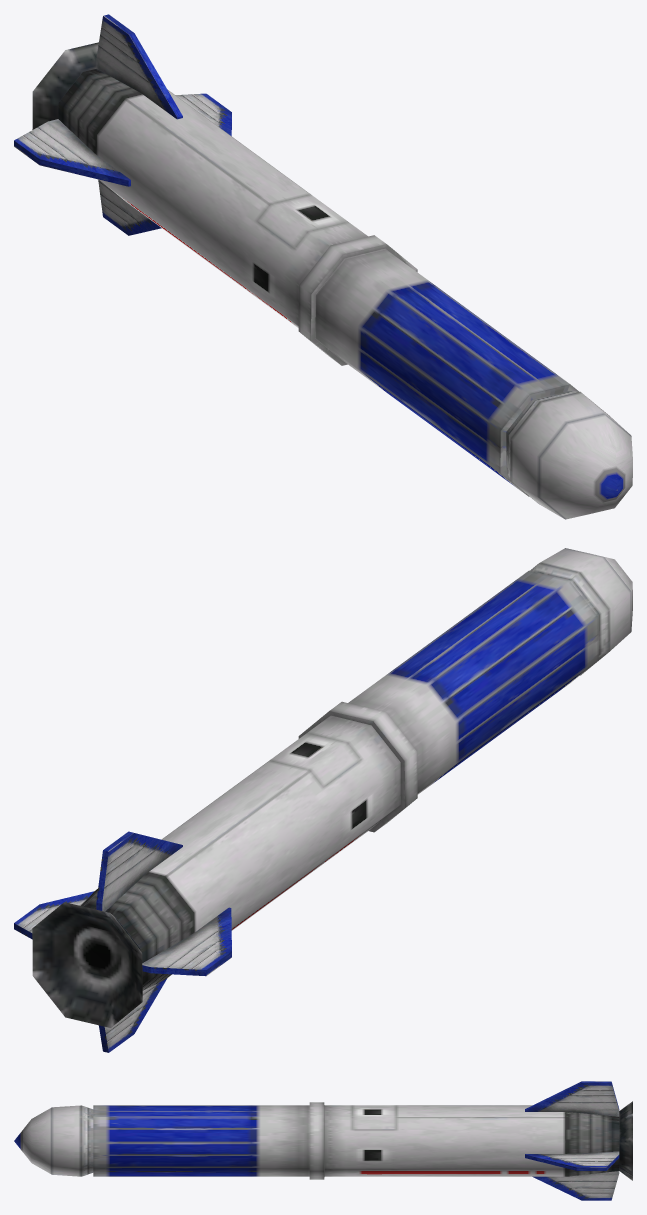
Rendered from wpn_missile_space_s03_l0.fbx.
3 views of the same model, one above another, from view 1: azimuth 30°, elevation 25°; view 2: azimuth 150°, elevation 25°; view 3: azimuth 270°, elevation 25° (orthographic). The views are drawn at different scales.
Visible parts, largest first — view 1: mesh_node; view 2: mesh_node; view 3: mesh_node.
Part boxes in pixels (<box>): mesh_node: <box>14,14,632,519</box>; mesh_node: <box>14,548,632,1052</box>; mesh_node: <box>14,1081,632,1200</box>.
Bounding box in the file's own units: 0.42 × 0.42 × 2.
Materials: 1 (1 with a texture image).
